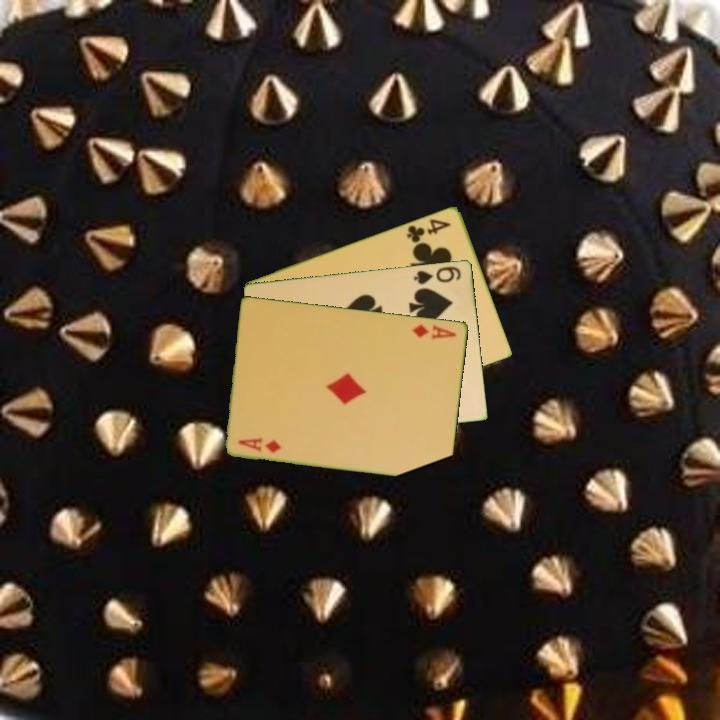4c: (403, 215, 454, 246)
6s: (411, 262, 464, 287)
Ad: (235, 433, 285, 455), (409, 321, 459, 342)
